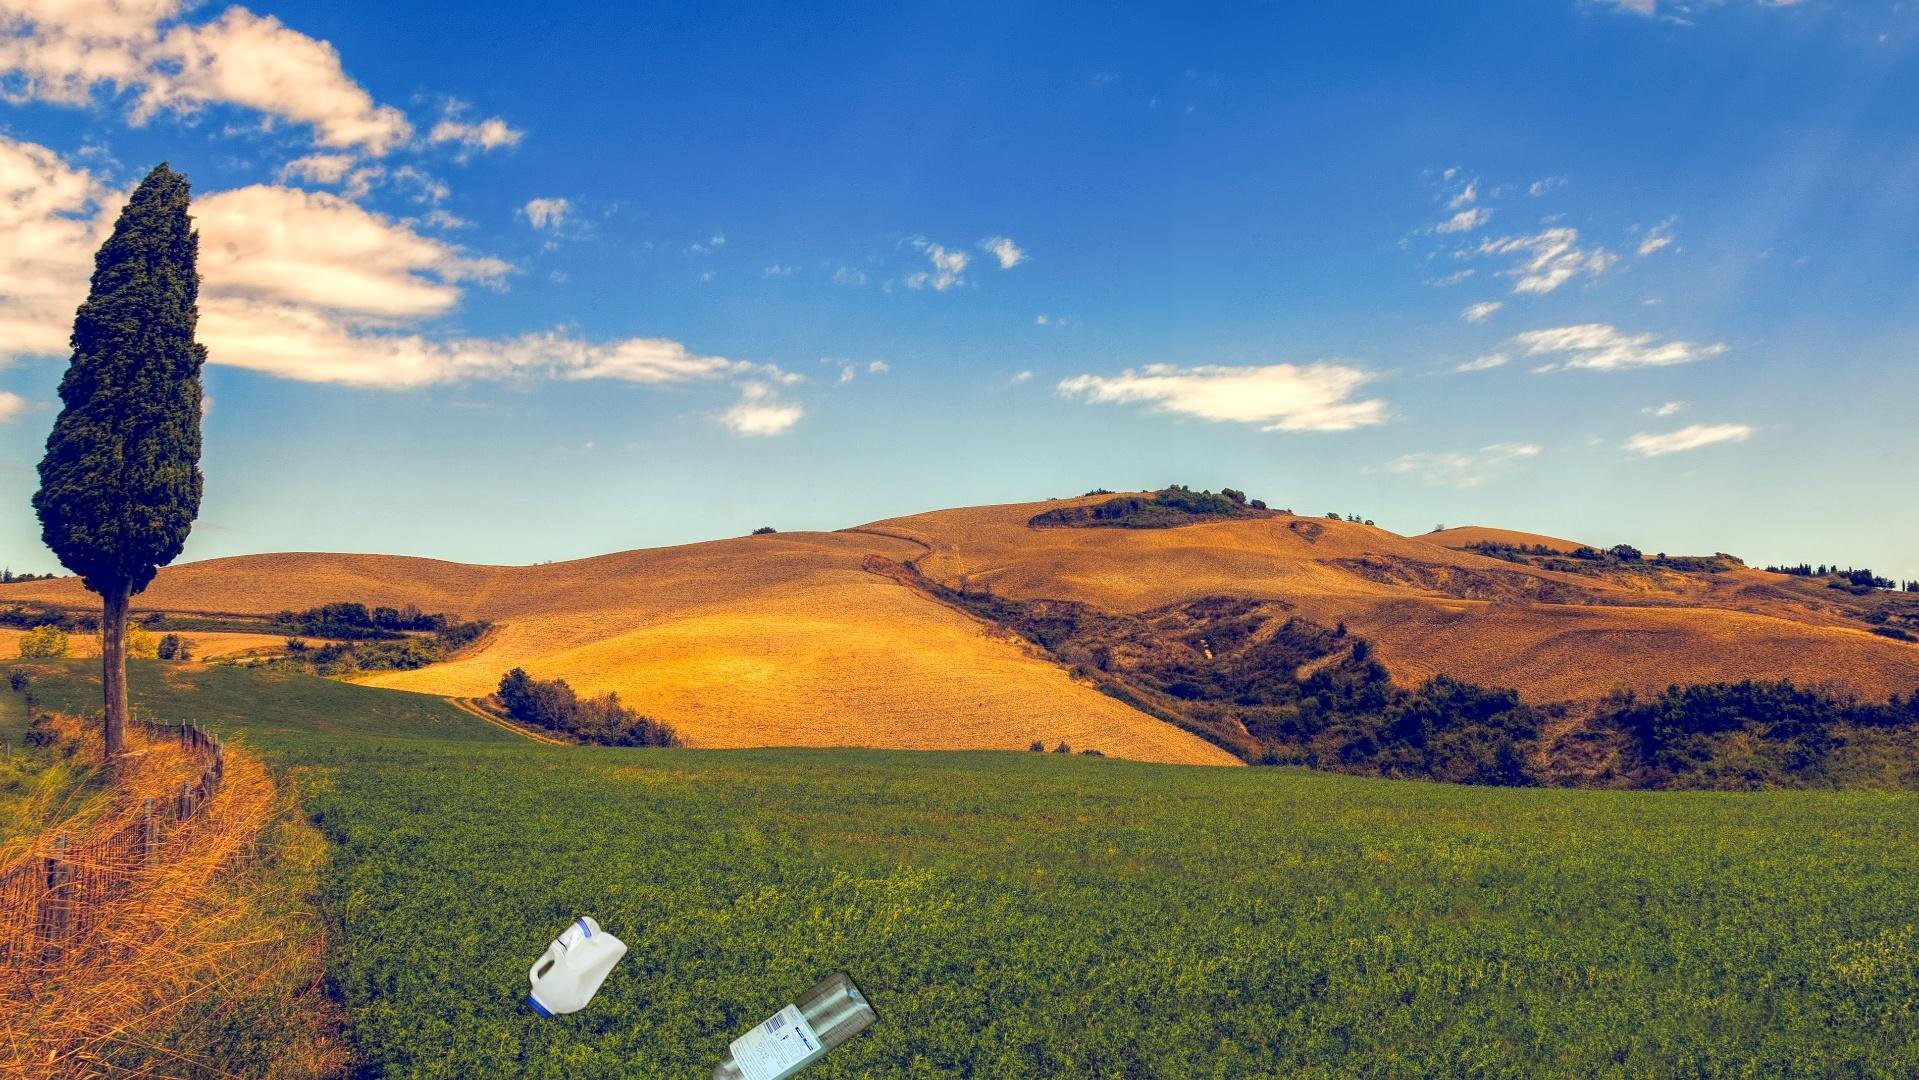glass: (648, 963, 884, 1080)
plastic-bottles: (521, 909, 633, 1025)
